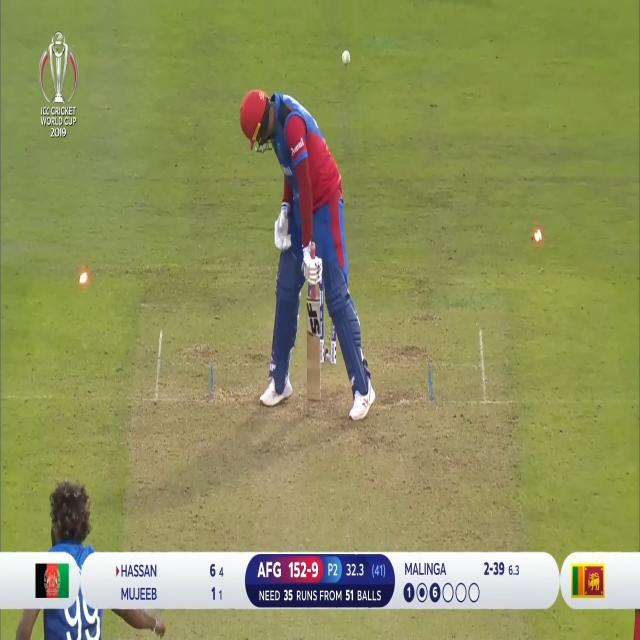ball: (340, 47, 353, 70)
